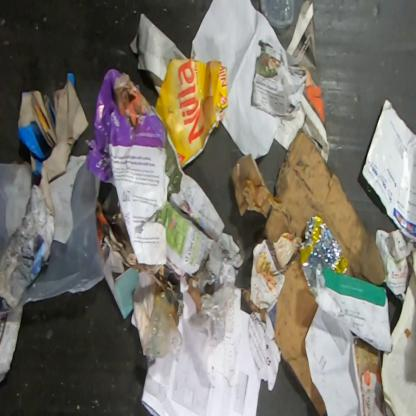cardboard: (231, 126, 386, 288), (273, 257, 328, 415), (154, 58, 229, 170)
metal: (300, 217, 347, 287)
soft_plastic: (22, 162, 106, 306), (0, 161, 34, 264), (143, 291, 184, 369), (259, 0, 295, 30)
